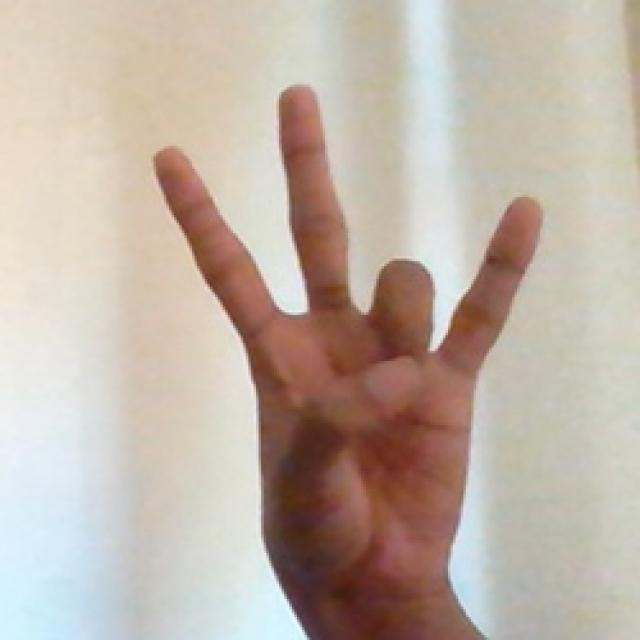Numeric-7: (158, 77, 546, 589)
